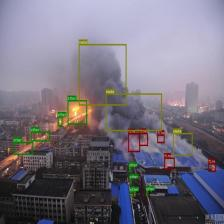fire: (128, 133, 140, 152), (139, 132, 148, 146), (164, 158, 174, 169), (208, 163, 216, 172), (157, 134, 164, 142)
smoke: (79, 44, 126, 105), (106, 93, 162, 131), (173, 132, 192, 156)
